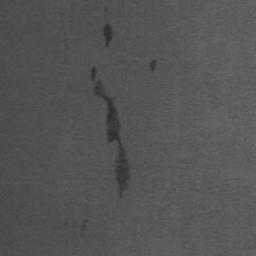Iron scale compression: (89, 66, 130, 200), (103, 25, 113, 48), (80, 219, 87, 237), (149, 59, 157, 73)
